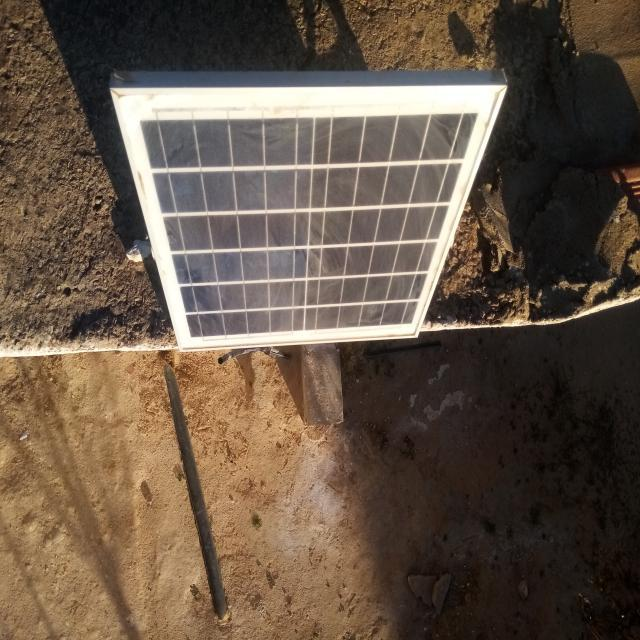faulty: (113, 88, 504, 351)
